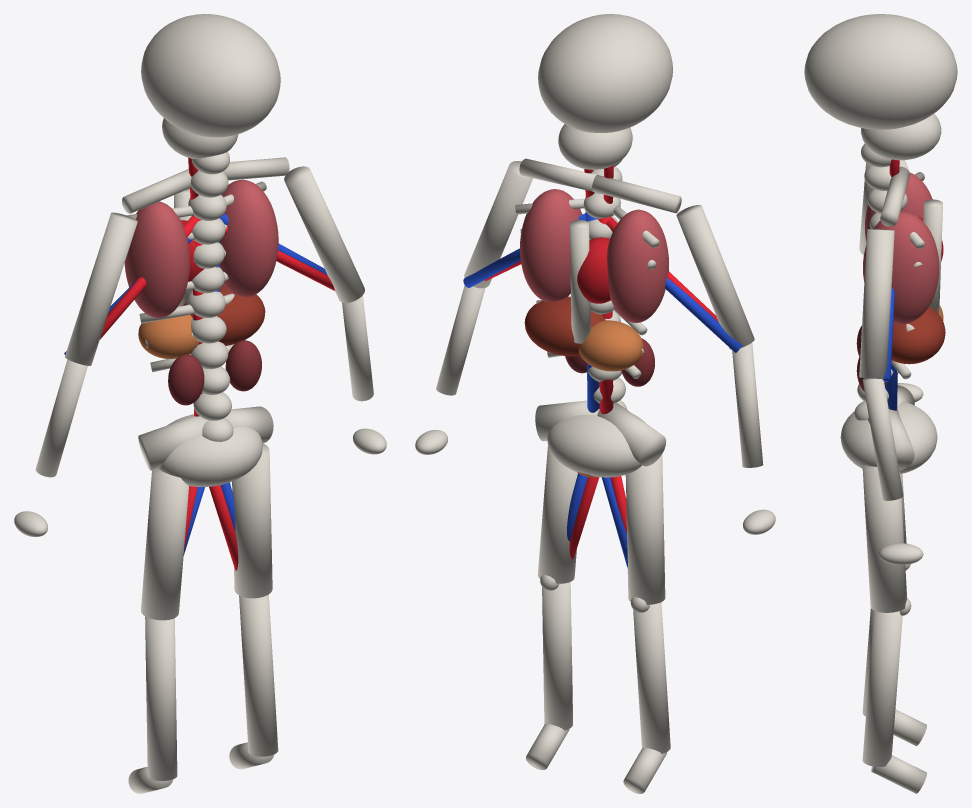
The model's file is mediview_anatomy.obj.
3 views of the same model, side by side, from view 1: azimuth 30°, elevation 25°; view 2: azimuth 150°, elevation 25°; view 3: azimuth 270°, elevation 25° (orthographic). The views are drawn at different scales.
Visible parts, largest first — view 1: Skull_Cranium, Lung_L, Femur_L, Lung_R, Tibia_L, Femur_R, Tibia_R, Humerus_L, Pelvis_Center, Humerus_R, Forearm_L, Forearm_R (+25 smaller); view 2: Skull_Cranium, Lung_L, Femur_L, Lung_R, Pelvis_Center, Tibia_L, Tibia_R, Humerus_L, Femur_R, Humerus_R, Forearm_L, Stomach (+19 smaller); view 3: Skull_Cranium, Tibia_R, Femur_R, Lung_R, Humerus_R, Pelvis_Center, Forearm_R, Skull_Jaw, Liver, Foot_R, Clavicle_R, Sternum (+11 smaller).
Boxes of the visible parts, x1,y1,x2,y2 form: Skull_Cranium: (141, 14, 280, 137); Lung_L: (124, 201, 189, 318); Femur_L: (141, 468, 188, 620); Lung_R: (219, 179, 278, 297); Tibia_L: (145, 616, 177, 780); Femur_R: (232, 443, 272, 598); Tibia_R: (239, 594, 278, 756); Humerus_L: (65, 212, 137, 365); Pelvis_Center: (158, 414, 262, 486); Humerus_R: (284, 166, 364, 302); Forearm_L: (35, 359, 87, 477); Forearm_R: (342, 295, 373, 401); Skull_Cranium: (538, 14, 672, 132); Lung_L: (607, 209, 668, 322); Femur_L: (625, 454, 665, 604); Lung_R: (520, 189, 582, 301); Pelvis_Center: (547, 414, 645, 477); Tibia_L: (633, 602, 670, 753); Tibia_R: (542, 582, 572, 730); Humerus_L: (676, 205, 754, 349); Femur_R: (537, 446, 577, 583); Humerus_R: (464, 161, 532, 288); Forearm_L: (732, 343, 763, 467); Stomach: (578, 320, 643, 371); Skull_Cranium: (804, 14, 957, 129); Tibia_R: (862, 611, 902, 766); Femur_R: (862, 464, 907, 612); Lung_R: (863, 211, 939, 324); Humerus_R: (859, 229, 894, 378); Pelvis_Center: (840, 402, 937, 473); Forearm_R: (862, 378, 903, 500); Skull_Jaw: (861, 113, 941, 160); Liver: (891, 306, 945, 364); Foot_R: (871, 755, 926, 793); Clavicle_R: (880, 166, 909, 226); Sternum: (923, 199, 942, 314).
Bounding box in the file's own units: 1.01 × 2.05 × 0.38.
